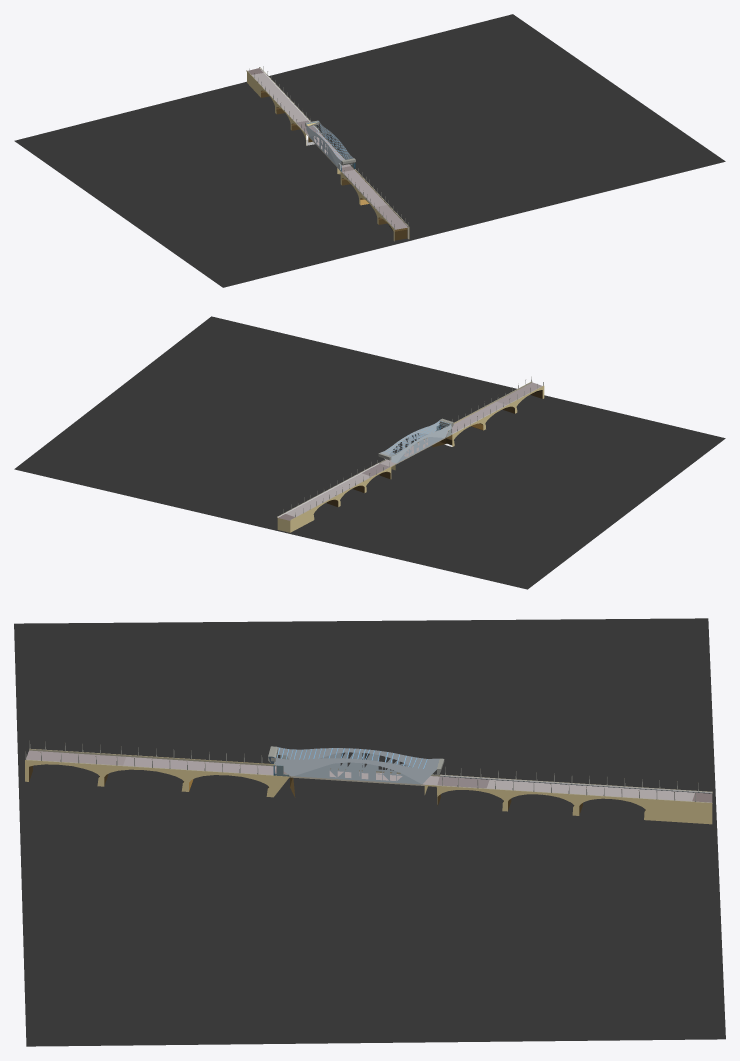
The model's file is market-street-bridge-chattanooga.glb.
The picture shows the model from 3 angles, top to bottom: view 1: azimuth 30°, elevation 25°; view 2: azimuth 150°, elevation 25°; view 3: azimuth 270°, elevation 25°; orthographic projection. The views are drawn at different scales.
Visible parts, largest first — view 1: LOD0; view 2: LOD0; view 3: LOD0.
Boxes of the visible parts, box(x1,y1,x2,y2) form: LOD0: box(14, 14, 725, 287); LOD0: box(14, 316, 725, 589); LOD0: box(14, 618, 725, 1046).
Size of what is drawn, in the model's own units: 643 by 30.06 by 452.
2 materials, 2 textured.
